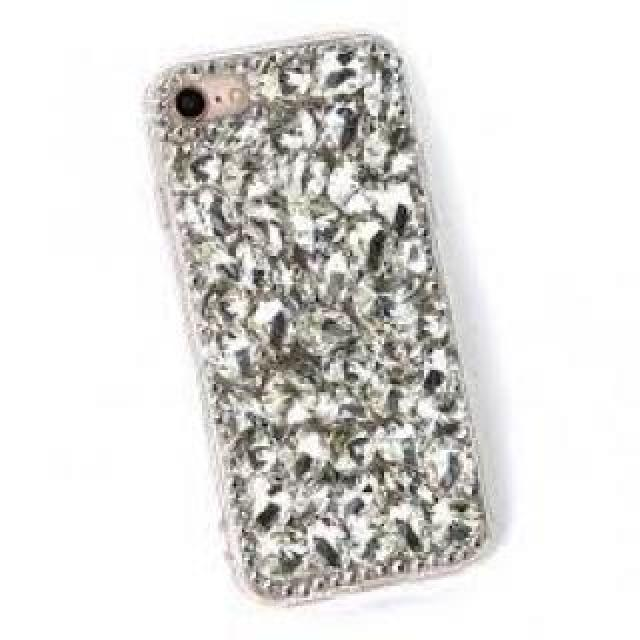smart phone: (111, 41, 522, 595)
